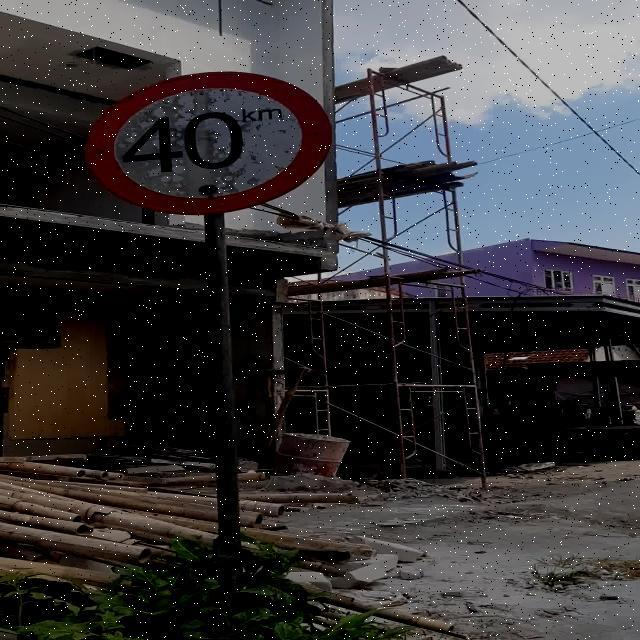Kecepatan Maks. 40 km: (85, 71, 332, 215)
